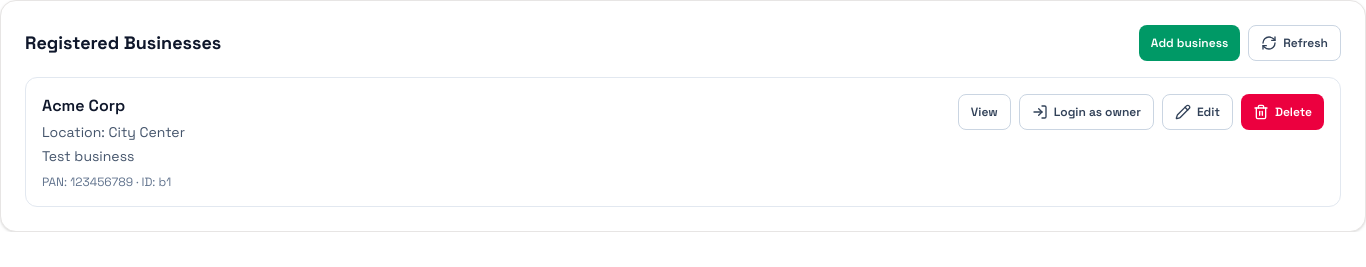
BusinessesPage › Delete confirms and removes business
Expected: the text "Acme Corp" is shown, [42,95,125,116]
Click the button "Delete": click(1282, 112) [1241,94,1324,130]
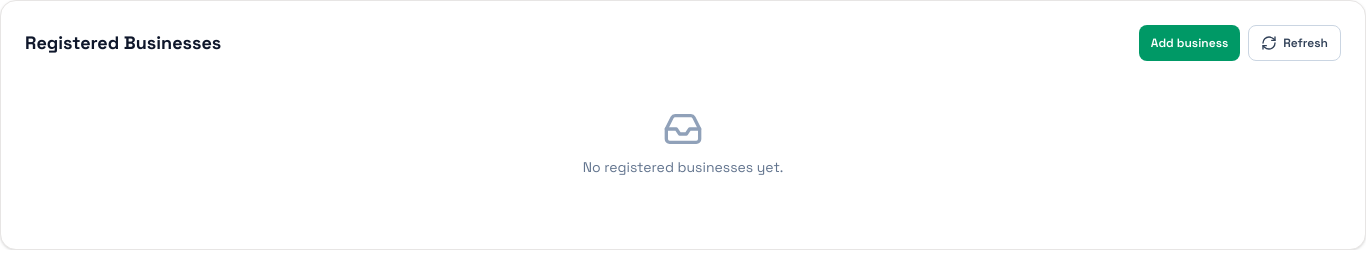
Now the text "Acme Corp" is gone
